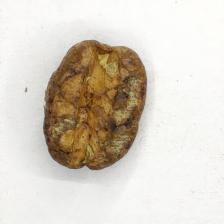NG: (54, 43, 139, 166)
